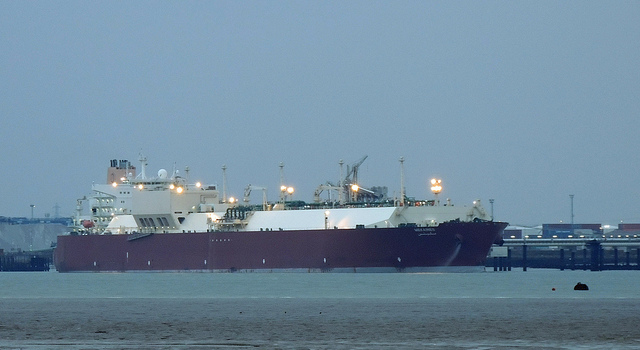LNG_ship: (56, 153, 512, 275)
